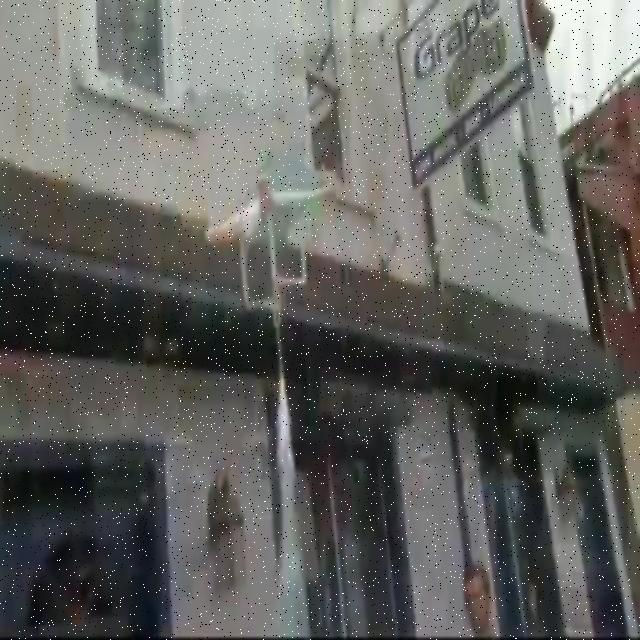UAV: (204, 176, 332, 329)
